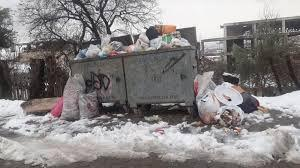Container: (122, 53, 197, 115), (68, 56, 128, 87)
Garbage: (201, 72, 261, 133), (51, 76, 99, 118), (129, 26, 193, 50), (71, 38, 128, 53)
